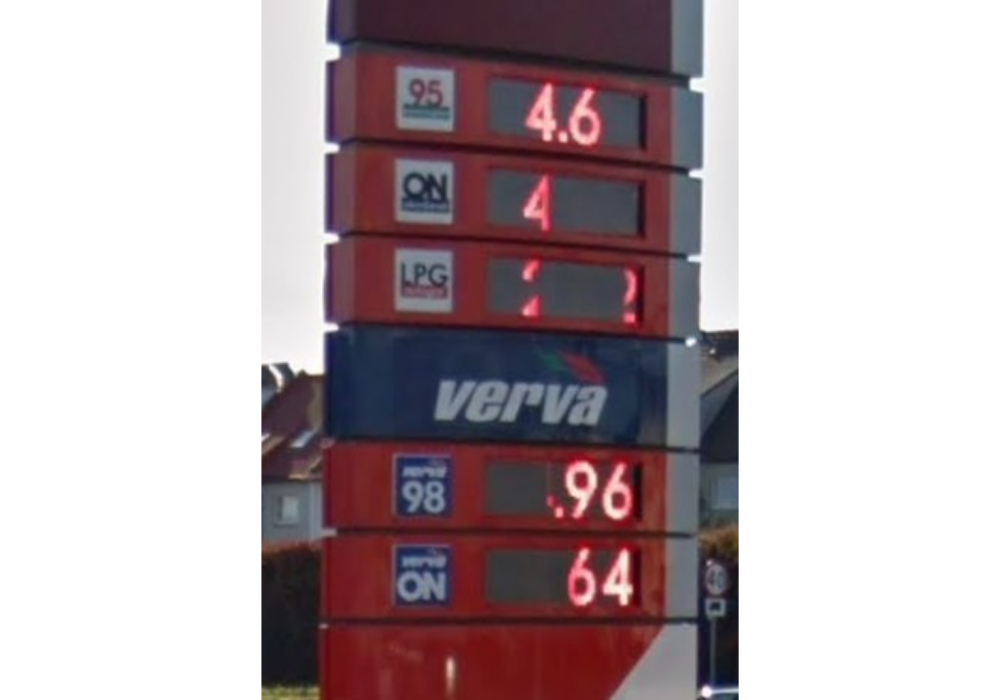LPG: (391, 244, 455, 315)
ON: (394, 159, 455, 226), (391, 540, 451, 608)
PB95: (393, 66, 456, 133)
PB98: (390, 453, 452, 519)
